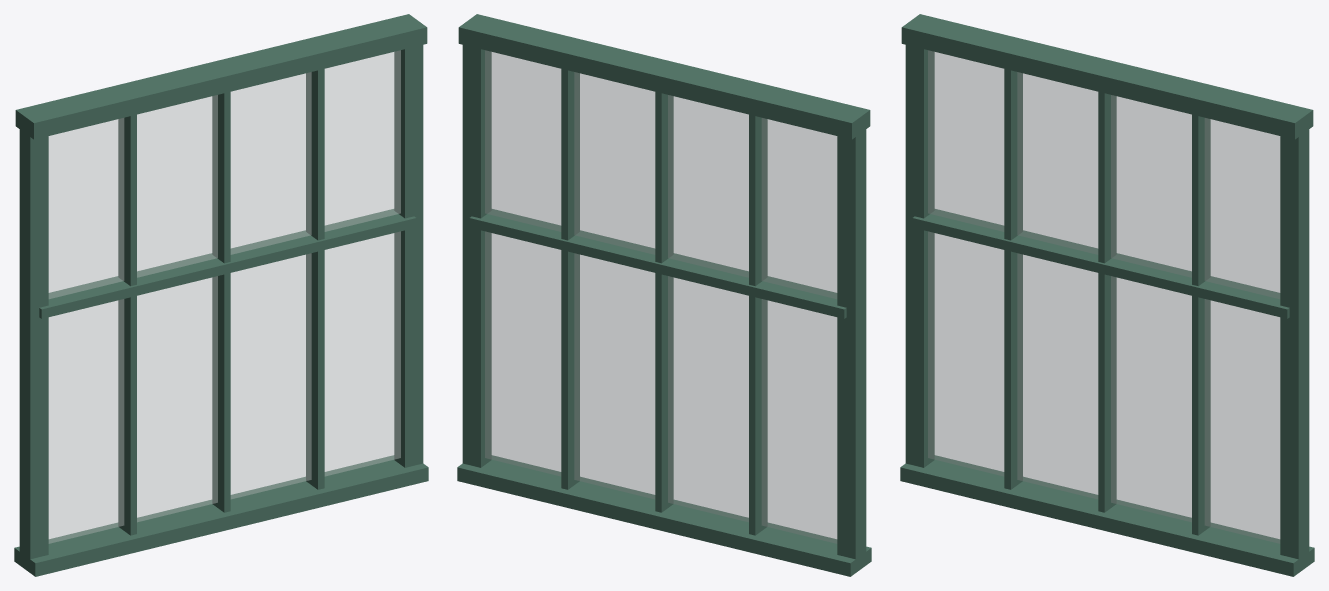
Rendered from botanical-glasshouse-and-palm-house-botanical-glasshou-8e2e89bd__38530.glb.
3 renders of one model, left to right at view 1: azimuth 30°, elevation 25°; view 2: azimuth 150°, elevation 25°; view 3: azimuth 330°, elevation 25°, orthographic.
Visible parts, largest first — view 1: botanical-glasshouse-and-palm-house-glasshouse-bay-module; view 2: botanical-glasshouse-and-palm-house-glasshouse-bay-module; view 3: botanical-glasshouse-and-palm-house-glasshouse-bay-module.
Part boxes in pixels (bbox=[...]): botanical-glasshouse-and-palm-house-glasshouse-bay-module: bbox=[14, 14, 428, 576]; botanical-glasshouse-and-palm-house-glasshouse-bay-module: bbox=[457, 14, 871, 576]; botanical-glasshouse-and-palm-house-glasshouse-bay-module: bbox=[900, 14, 1314, 576].
Size of the model in its own units: 3 by 3.3 by 0.28.
